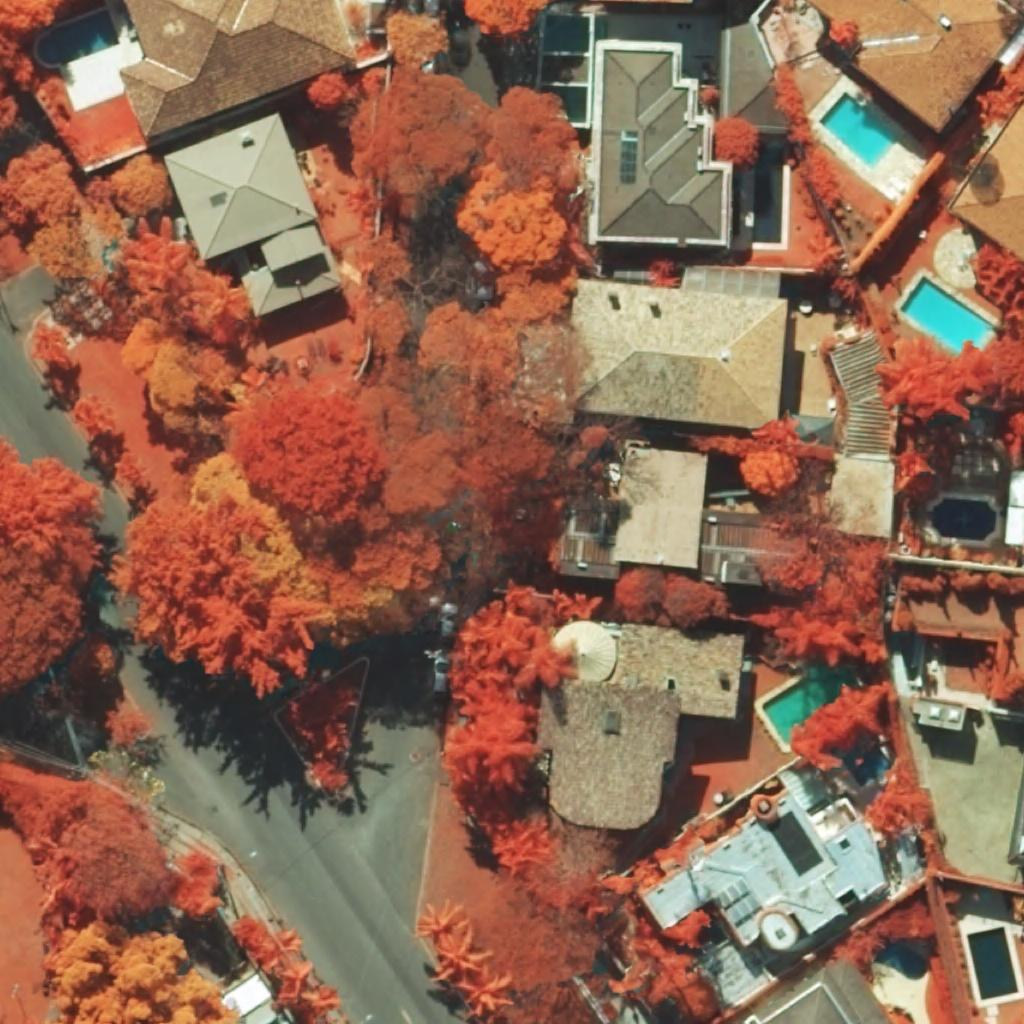pool: (762, 664, 861, 746), (900, 276, 994, 353), (819, 92, 901, 169), (36, 9, 120, 65), (967, 926, 1019, 1001), (752, 133, 783, 243), (930, 498, 997, 541), (874, 942, 929, 981), (844, 749, 891, 788)
